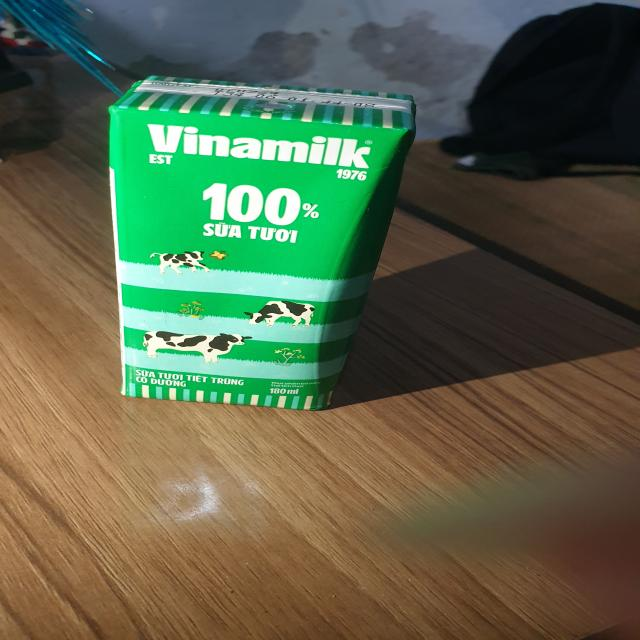Vina: (106, 72, 423, 415)
